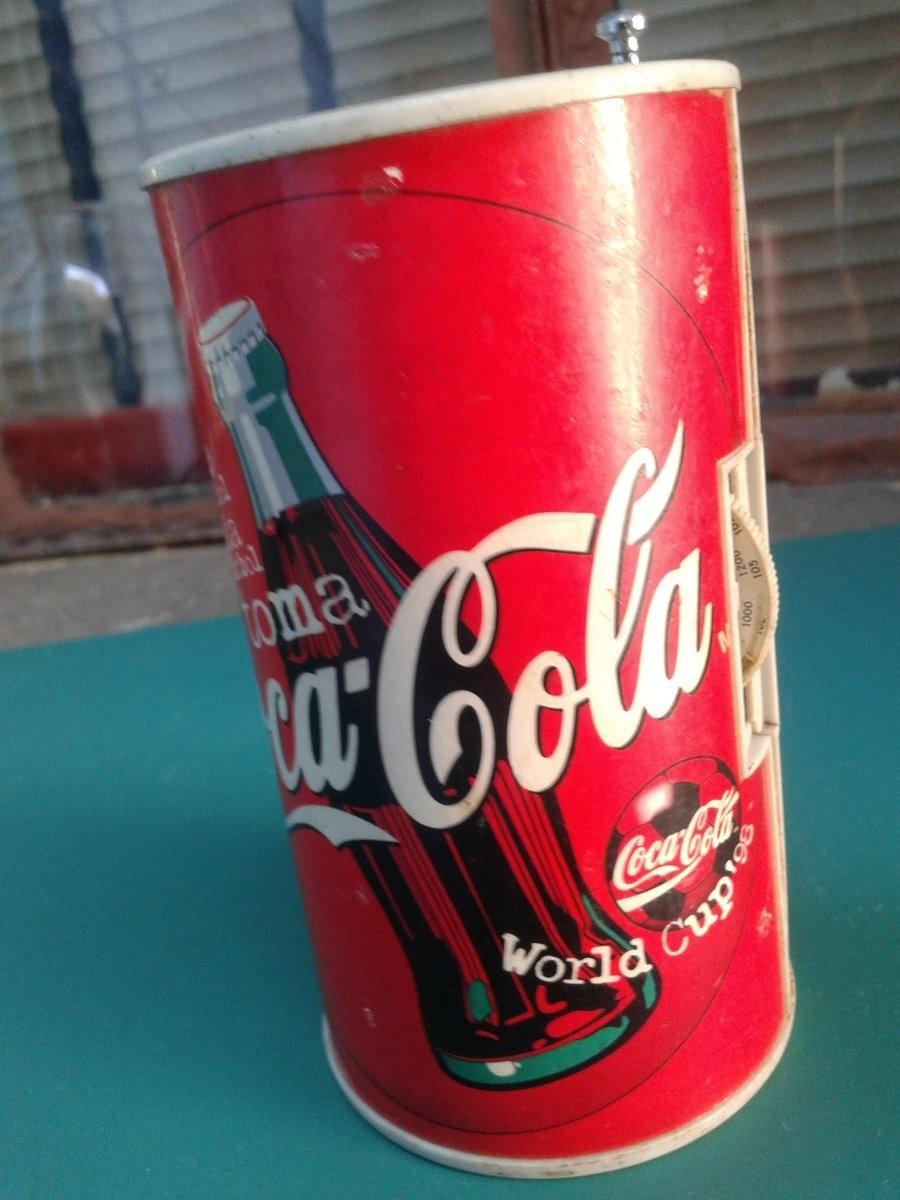metal: (143, 60, 794, 1180)
